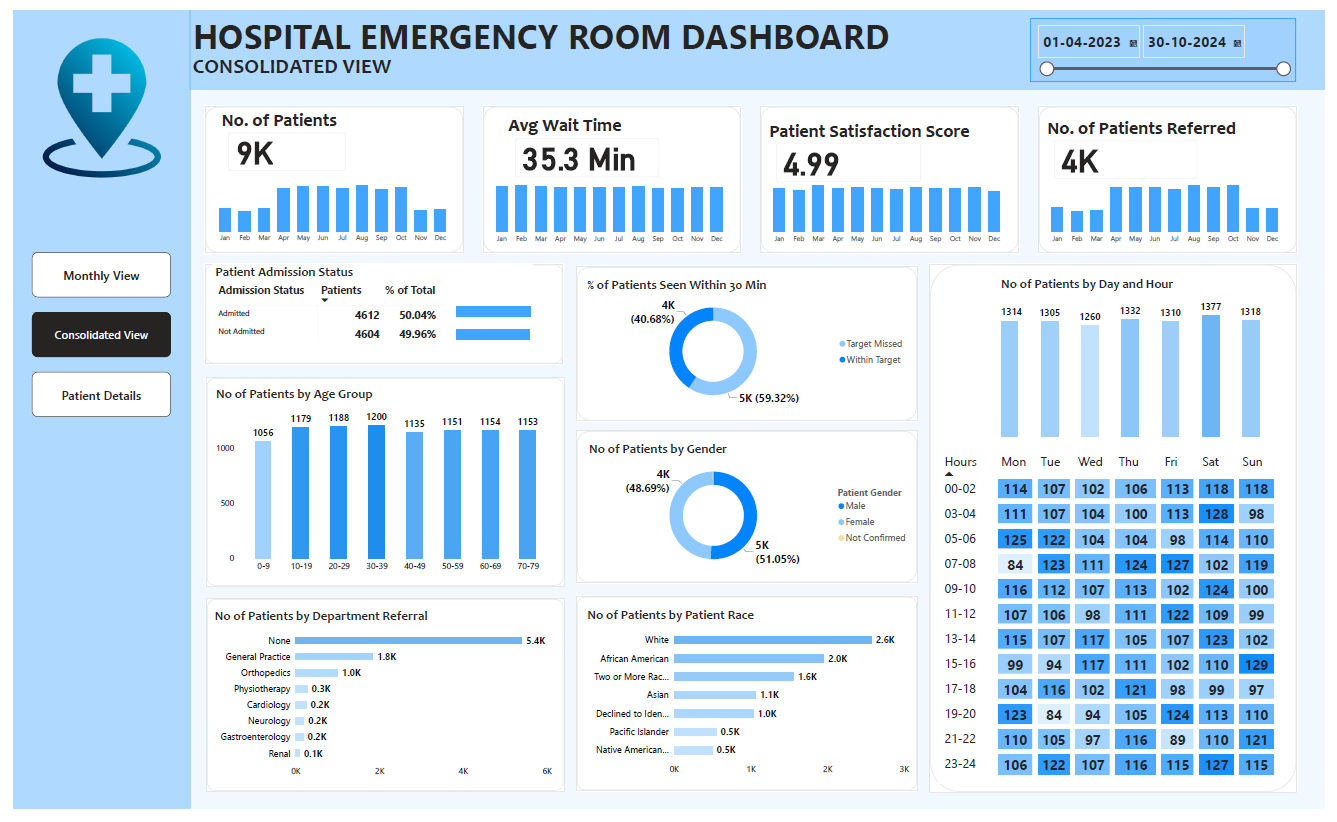

Layout of this report page (visuals, bound fields, positions):
{"tool":"powerbi","page":{"name":"Consolidated View","canvas":[2300,1400],"ordinal":1},"visuals":[{"type":"shape","box":[986.6,736.1,600,269.1],"z":0},{"type":"shape","box":[334.8,167.4,455,258.4],"z":1000},{"type":"shape","box":[0,0,310,1401.1],"z":2000},{"type":"shape","box":[309.3,0,1990.7,138.3],"z":3000},{"type":"textbox","box":[309.3,0,1255.5,105.5],"z":4000},{"type":"textbox","box":[309.3,69.1,382.1,69.1],"z":5000},{"type":"cardVisual","fields":{"Data":["Hospital ER_Data.No of Patients"]},"box":[360.3,196.5,240.2,101.9],"z":6000},{"type":"slicer","fields":{"Values":["Date Table.Date"]},"box":[1783.8,13.5,467.6,110.8],"z":7000},{"type":"textbox","box":[360.3,167.4,287.5,54.6],"z":8000},{"type":"columnChart","fields":{"Y":["Hospital ER_Data.No of Patients"],"Category":["Date Table.Month Name"]},"box":[341.7,291.7,436.1,125],"z":9000},{"type":"shape","box":[822.5,167.4,454.9,258.4],"z":10000},{"type":"cardVisual","fields":{"Data":["Hospital ER_Data.Avg Wait Time"]},"box":[862.5,207.4,287.5,101.9],"z":11000},{"type":"textbox","box":[862.8,177.4,287.5,54.6],"z":12000},{"type":"shape","box":[1310.2,167.4,454.9,258.4],"z":13000},{"type":"cardVisual","fields":{"Data":["Hospital ER_Data.Satisfaction Score"]},"box":[1321,214.7,287.5,101.9],"z":14000},{"type":"textbox","box":[1321,185.6,425.8,54.6],"z":15000},{"type":"shape","box":[1797.8,167.4,454.9,258.4],"z":16000},{"type":"cardVisual","fields":{"Data":["Hospital ER_Data.No of Patient Referred"]},"box":[1809.3,210.3,284.5,102.1],"z":17000},{"type":"textbox","box":[1809.3,182.5,436.1,55.7],"z":18000},{"type":"columnChart","fields":{"Y":["Avg(Hospital ER_Data.Patient Waittime)"],"Category":["Date Table.Month Name"]},"box":[827.8,293.2,435,125],"z":19000},{"type":"columnChart","fields":{"Category":["Date Table.Month Name"],"Y":["Hospital ER_Data.Satisfaction Score"]},"box":[1315.5,293.2,435,125],"z":20000},{"type":"columnChart","fields":{"Category":["Date Table.Month Name"],"Y":["Hospital ER_Data.No of Patient Referred"]},"box":[1803.1,293.2,435,125],"z":21000},{"type":"pivotTable","fields":{"Rows":["Hospital ER_Data.Admission Status"],"Values":["Hospital ER_Data.No of Patients"]},"box":[349.1,464.1,599.6,143.8],"z":22000},{"type":"shape","box":[335.4,444.1,630,177],"z":23000},{"type":"pivotTable","title":"Patient Admission Status","fields":{"Values":["Hospital ER_Data.No of Patients1","Hospital ER_Data.No of Patients"],"Rows":["Hospital ER_Data.Admission Status"]},"box":[348.6,442.9,562.9,162.9],"z":24000},{"type":"barChart","fields":{"Category":["Hospital ER_Data.Admission Status"],"Y":["Hospital ER_Data.No of Patients"]},"box":[773.2,485.6,176.3,120.6],"z":25000},{"type":"shape","box":[336.7,643.3,630,368],"z":26000},{"type":"clusteredColumnChart","fields":{"Category":["Hospital ER_Data.Age Group"],"Y":["Hospital ER_Data.No of Patients"]},"box":[350,657.1,600,338.1],"z":27000},{"type":"shape","box":[338.1,1031,628.6,340.5],"z":28000},{"type":"clusteredBarChart","fields":{"Category":["Hospital ER_Data.Department Referral"],"Y":["Hospital ER_Data.No of Patients"]},"box":[347.6,1047.6,602.4,307.1],"z":29000},{"type":"shape","box":[986.6,448.5,600,272.2],"z":30000},{"type":"donutChart","title":"% of Patients Seen Within 30 Min","fields":{"Category":["Hospital ER_Data.Waittime Status"],"Y":["Hospital ER_Data.No of Patients"]},"box":[1002.1,467,572.2,235.1],"z":31000},{"type":"shape","box":[986.6,1026.8,600,343.3],"z":32000},{"type":"donutChart","title":"No of Patients by Gender","fields":{"Y":["Hospital ER_Data.No of Patients"],"Category":["Hospital ER_Data.Patient Gender"]},"box":[1005.2,754.7,575.3,235.1],"z":33000},{"type":"clusteredBarChart","fields":{"Y":["Hospital ER_Data.No of Patients"],"Category":["Hospital ER_Data.Patient Race"]},"box":[1002.1,1045.4,575.3,306.2],"z":34000},{"type":"shape","box":[1606.7,444.4,646.7,928.9],"z":35000},{"type":"pivotTable","fields":{"Rows":["Hospital ER_Data.Waittime Interval"],"Columns":["Date Table.Day Name"],"Values":["Hospital ER_Data.No of Patients"]},"box":[1624.4,771.1,608.9,584.4],"z":36000},{"type":"columnChart","title":"No of Patients by Day and Hour","fields":{"Y":["Hospital ER_Data.No of Patients"],"Category":["Date Table.Day Name"]},"box":[1727.8,463.9,466.7,288.9],"z":37000},{"type":"image","box":[32.8,29.1,243.8,283.9],"z":38000},{"type":"pageNavigator","box":[32.4,423.5,244.1,291.2],"z":39000}]}

Visuals, with their boxes in screenshot pixels (x1, y1, x2, y2), scaled from the page's 2300x1400 canvas onto the 1337x822 screenshot:
shape: [574,432,922,590]
shape: [195,98,459,250]
shape: [0,0,180,821]
shape: [180,0,1336,81]
textbox: [180,0,910,62]
textbox: [180,41,402,81]
cardVisual - Hospital ER_Data.No of Patients: [209,115,349,175]
slicer - Date Table.Date: [1037,8,1309,73]
textbox: [209,98,377,130]
columnChart - Hospital ER_Data.No of Patients x Date Table.Month Name: [199,171,452,245]
shape: [478,98,743,250]
cardVisual - Hospital ER_Data.Avg Wait Time: [501,122,668,182]
textbox: [502,104,669,136]
shape: [762,98,1026,250]
cardVisual - Hospital ER_Data.Satisfaction Score: [768,126,935,186]
textbox: [768,109,1015,141]
shape: [1045,98,1310,250]
cardVisual - Hospital ER_Data.No of Patient Referred: [1052,123,1217,183]
textbox: [1052,107,1305,140]
columnChart - Avg(Hospital ER_Data.Patient Waittime) x Date Table.Month Name: [481,172,734,246]
columnChart - Date Table.Month Name x Hospital ER_Data.Satisfaction Score: [765,172,1018,246]
columnChart - Date Table.Month Name x Hospital ER_Data.No of Patient Referred: [1048,172,1301,246]
pivotTable - Hospital ER_Data.Admission Status x Hospital ER_Data.No of Patients: [203,272,551,357]
shape: [195,261,561,365]
"Patient Admission Status" pivotTable: [203,260,530,356]
barChart - Hospital ER_Data.Admission Status x Hospital ER_Data.No of Patients: [449,285,552,356]
shape: [196,378,562,594]
clusteredColumnChart - Hospital ER_Data.Age Group x Hospital ER_Data.No of Patients: [203,386,552,584]
shape: [197,605,562,805]
clusteredBarChart - Hospital ER_Data.Department Referral x Hospital ER_Data.No of Patients: [202,615,552,795]
shape: [574,263,922,423]
"% of Patients Seen Within 30 Min" donutChart: [583,274,915,412]
shape: [574,603,922,804]
"No of Patients by Gender" donutChart: [584,443,919,581]
clusteredBarChart - Hospital ER_Data.No of Patients x Hospital ER_Data.Patient Race: [583,614,917,794]
shape: [934,261,1310,806]
pivotTable - Hospital ER_Data.Waittime Interval x Date Table.Day Name: [944,453,1298,796]
"No of Patients by Day and Hour" columnChart: [1004,272,1276,442]
image: [19,17,161,184]
pageNavigator: [19,249,161,420]
